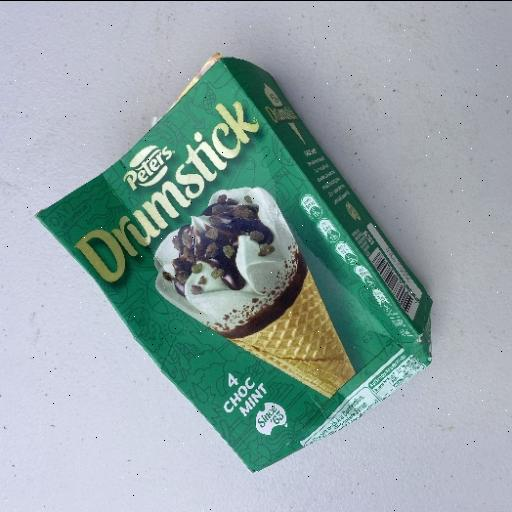Cardboard: (34, 52, 434, 474)
